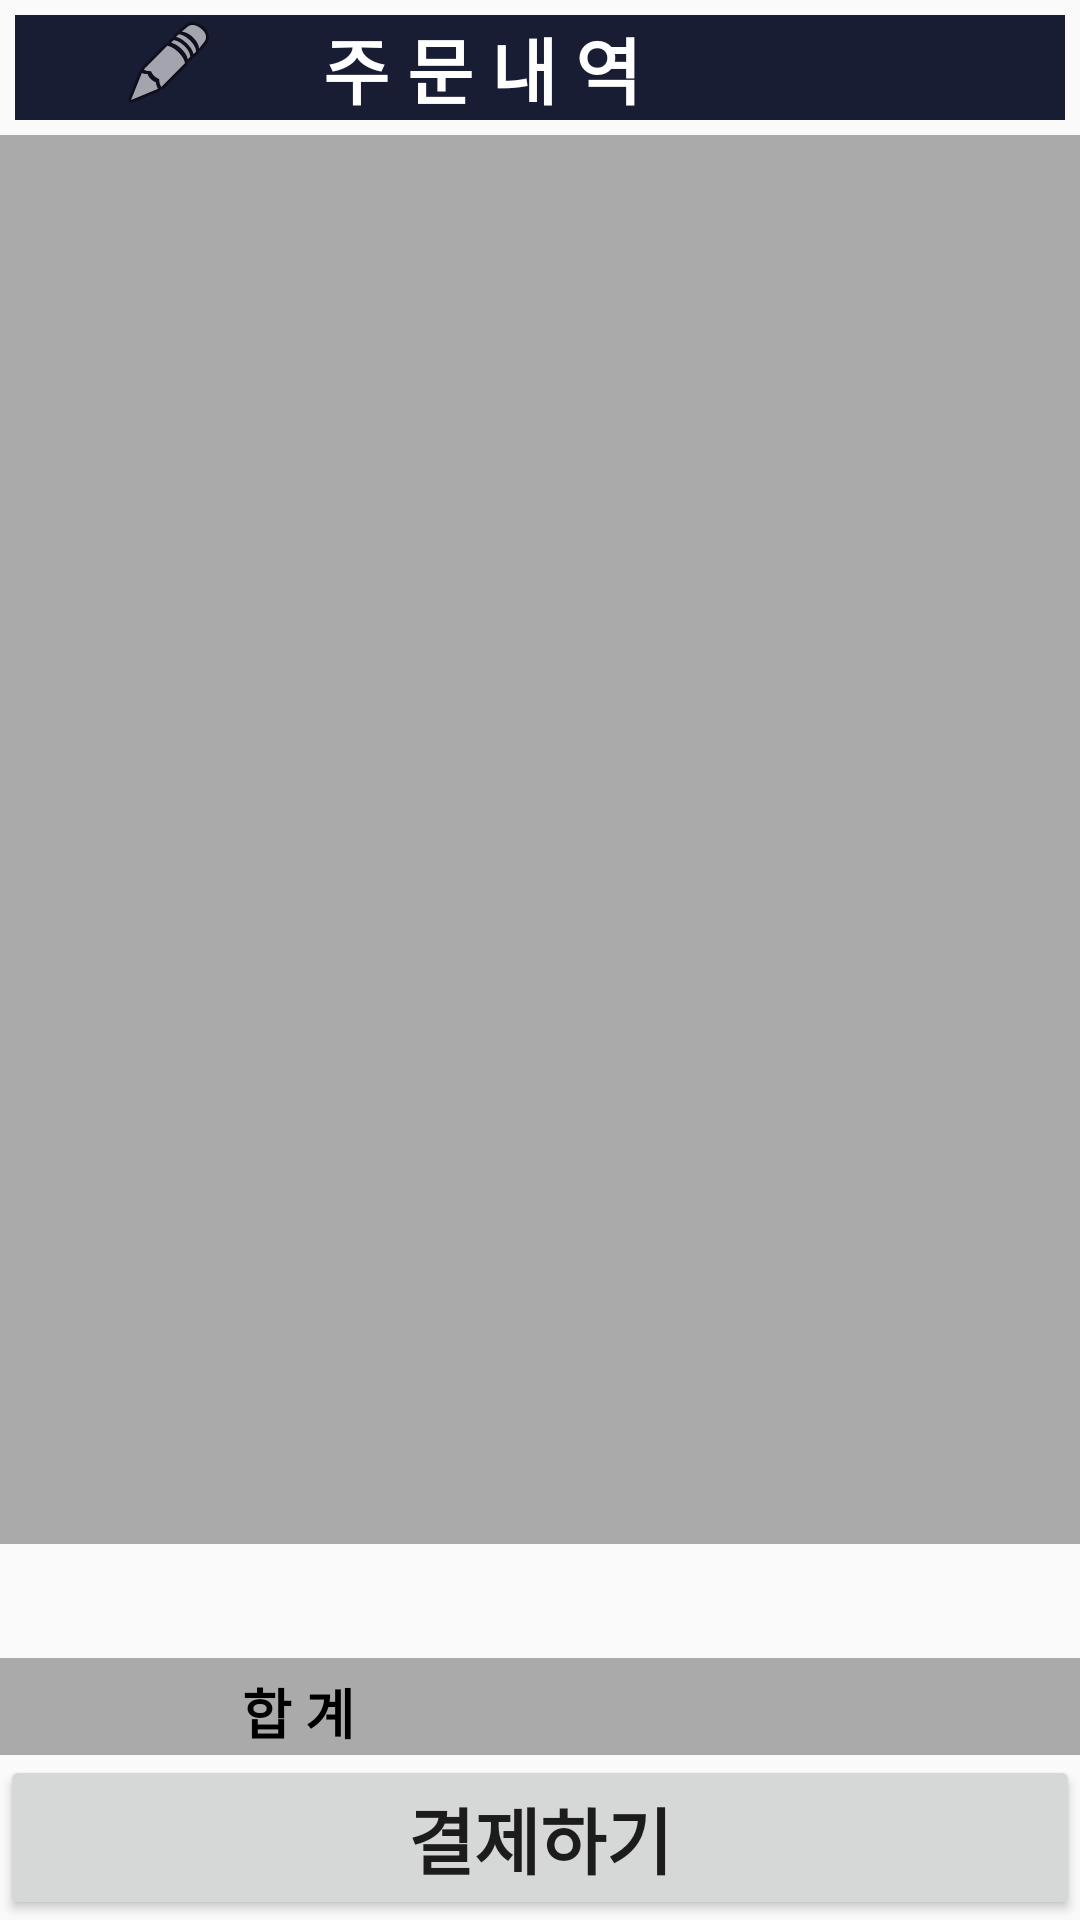

Named icons in this screenshot (1080×1920) and their bounding boxes, bbox=[x1, y1, x2, y2]:
edit: bbox=[130, 24, 207, 101]
